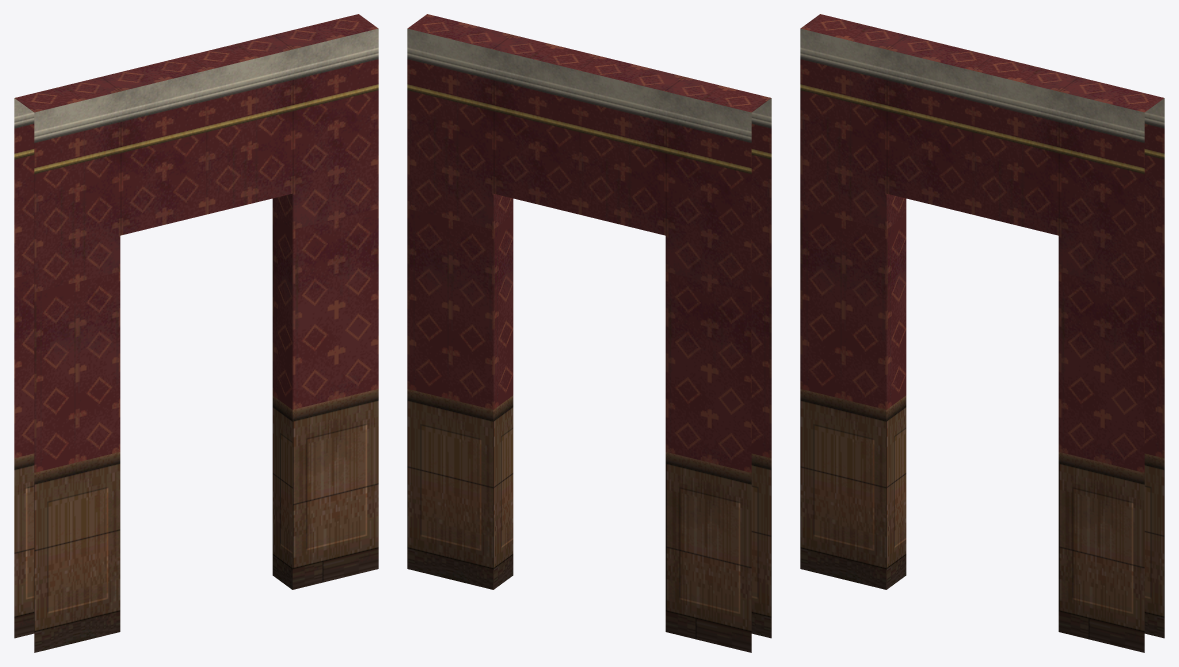
Rendered from wall_doorway_damask.fbx.
The picture shows the model from 3 angles, left to right: view 1: azimuth 30°, elevation 25°; view 2: azimuth 150°, elevation 25°; view 3: azimuth 330°, elevation 25°; orthographic projection.
Parts seen in each view (by area): view 1: wall_doorway_damask; view 2: wall_doorway_damask; view 3: wall_doorway_damask.
Part boxes in pixels (x1,y1,x2,y2): wall_doorway_damask: (14, 14, 378, 652); wall_doorway_damask: (407, 14, 771, 652); wall_doorway_damask: (800, 14, 1164, 652).
Size of the model in its own units: 2 by 3 by 0.2.
Materials: 1 (1 with a texture image).
